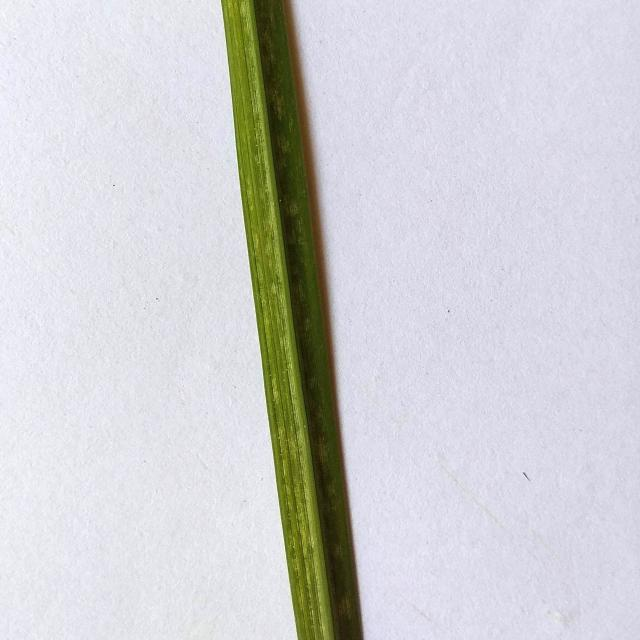Rice_Healthy: (222, 0, 362, 640)
